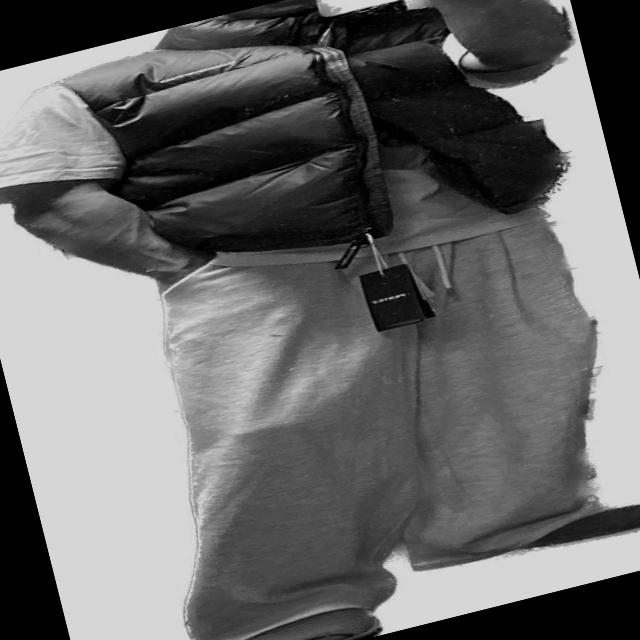padding: (59, 0, 580, 310)
trainingpants: (102, 169, 640, 640)
